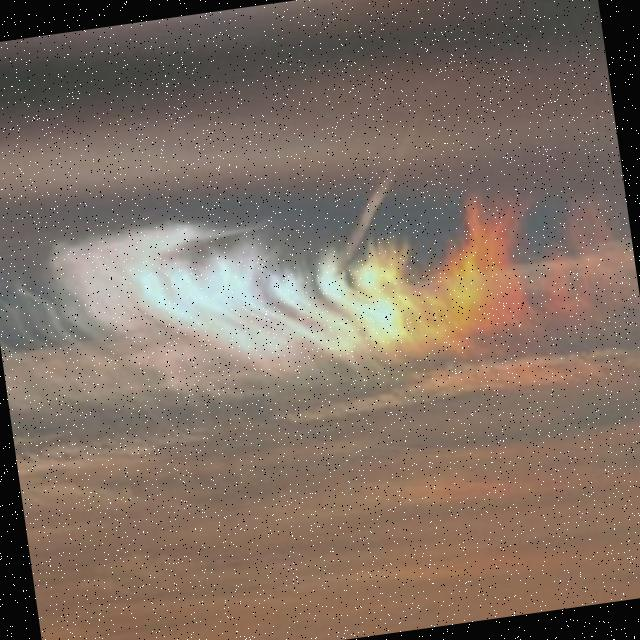Cc: (1, 119, 640, 540)
